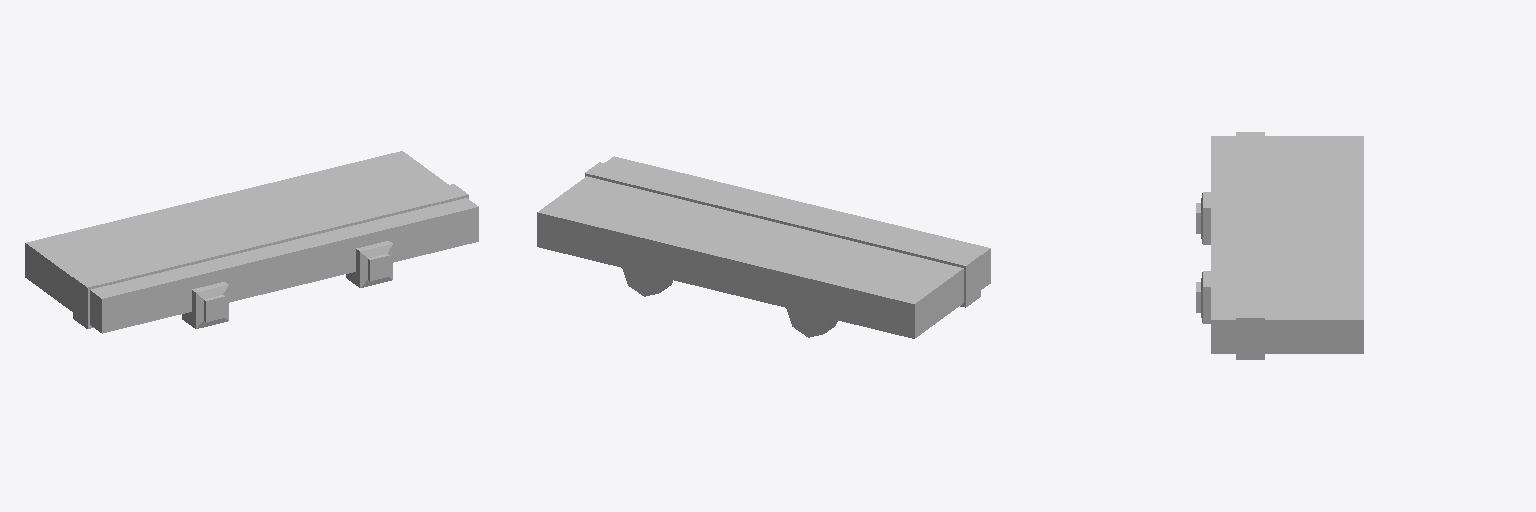
File: shenjie_fuben_02_qiang04.obj
3 views of the same model, side by side, from view 1: azimuth 30°, elevation 25°; view 2: azimuth 150°, elevation 25°; view 3: azimuth 270°, elevation 25° (orthographic).
Visible parts, largest first — view 1: shenjie_fuben_02_qiang04; view 2: shenjie_fuben_02_qiang04; view 3: shenjie_fuben_02_qiang04.
Part boxes in pixels (x1,y1,x2,y2): shenjie_fuben_02_qiang04: (25, 151, 478, 333); shenjie_fuben_02_qiang04: (537, 156, 990, 338); shenjie_fuben_02_qiang04: (1196, 132, 1363, 359).
Bounding box in the file's own units: 1030 × 161 × 394.